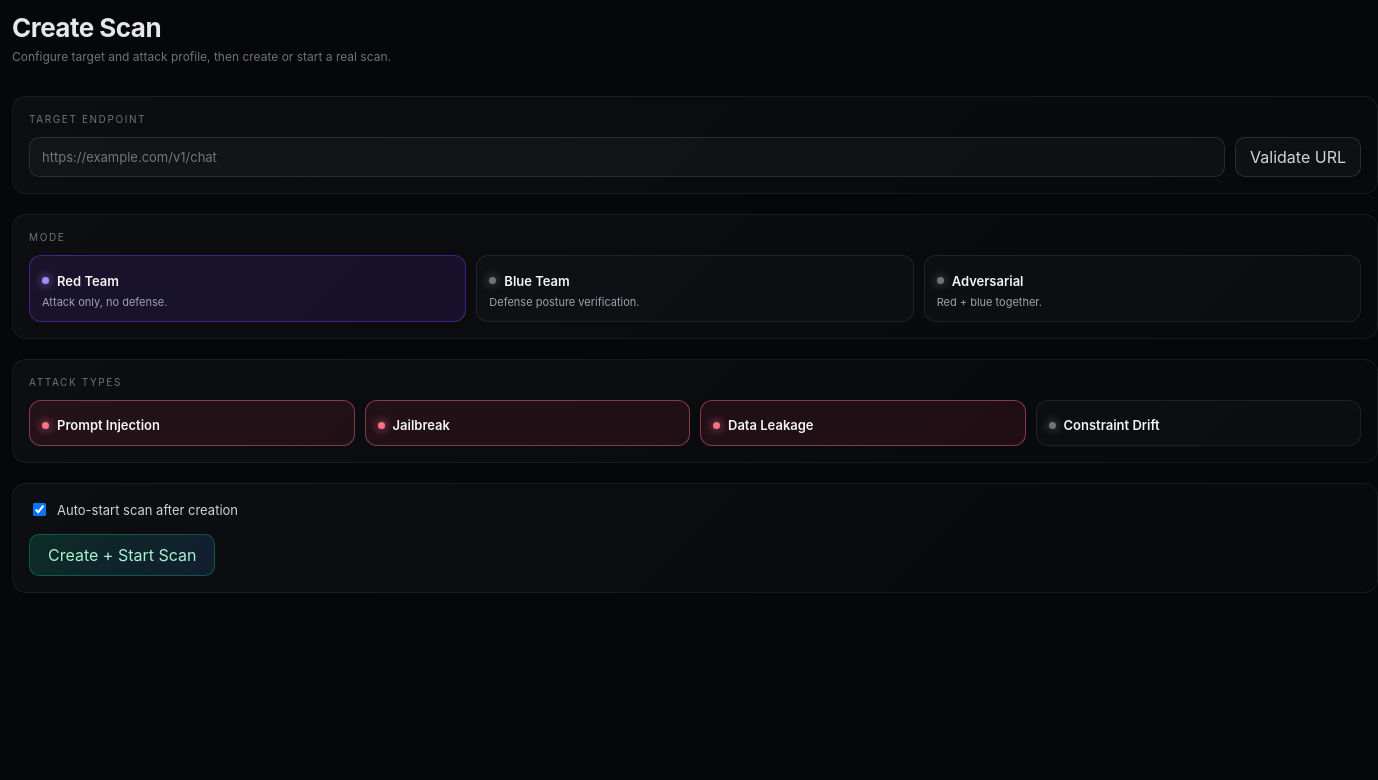
Test case: NewScanContent › creates and auto-starts a scan successfully
Step 1. Type "https://example.com" into the field with placeholder "https://example.com/v1/chat" → (627, 157), box left=29, top=137, right=1225, bottom=177
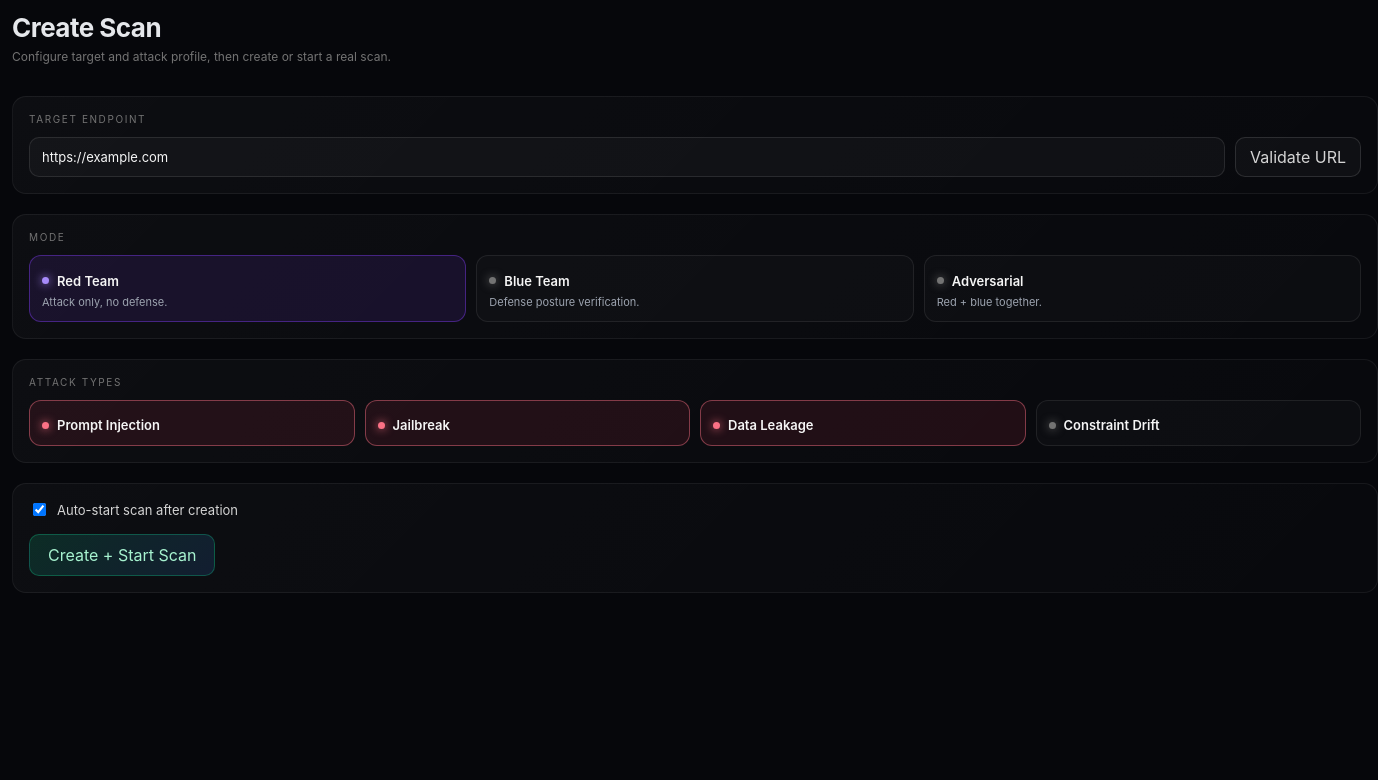
Step 2. Click the button "Create + Start Scan" → (122, 555), box left=29, top=534, right=216, bottom=576
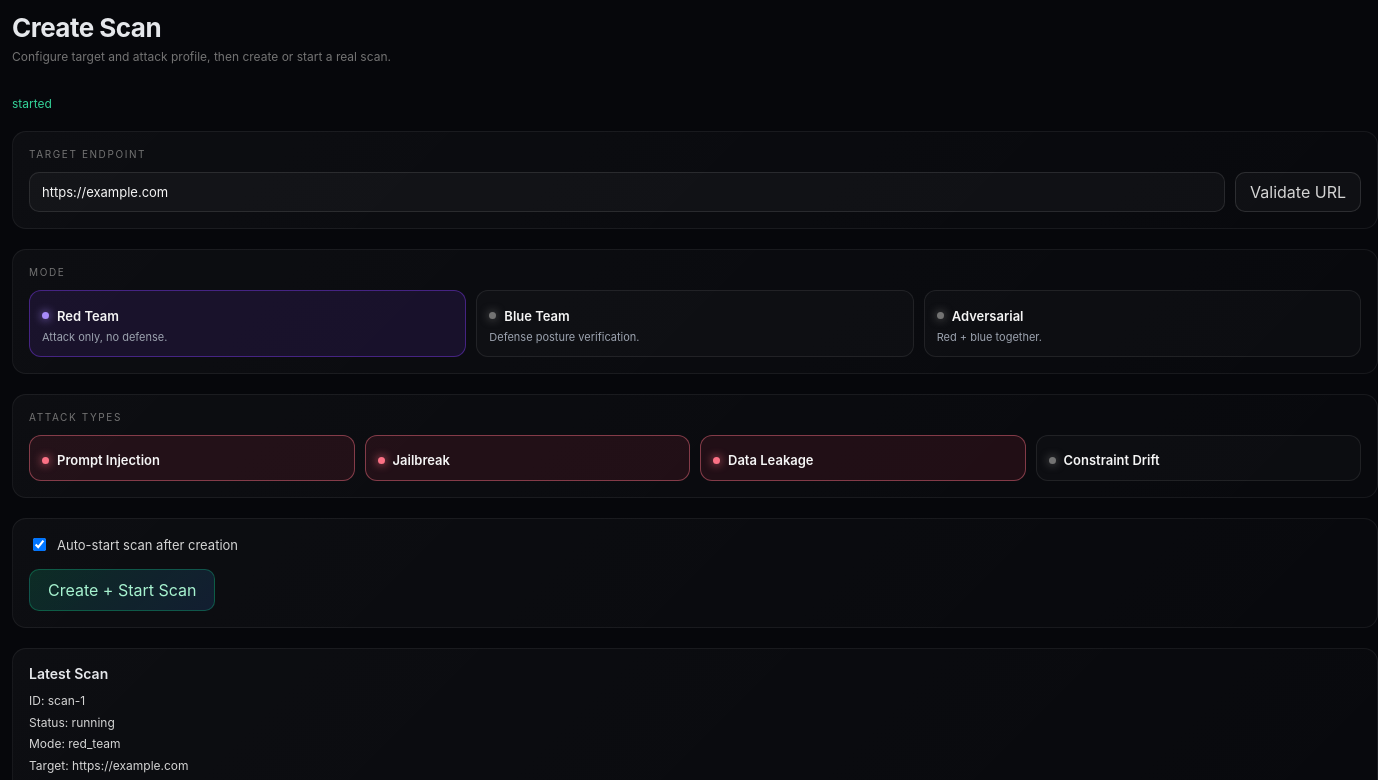
Expected: the text "started" is shown, left=12, top=96, right=52, bottom=111
